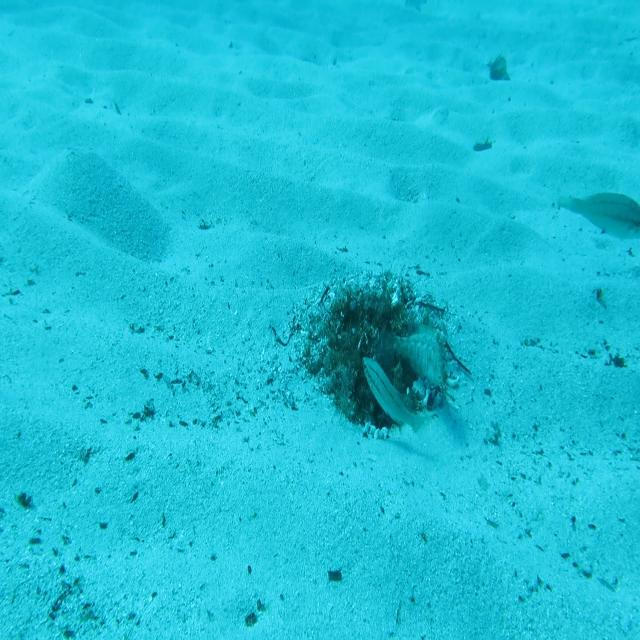DAN_CIRC: (378, 321, 446, 386)
core_nest: (352, 310, 400, 342)
female: (361, 355, 433, 446), (557, 189, 640, 242)
nest: (290, 261, 460, 447)
other_fish: (403, 0, 432, 12)
vegetation: (488, 55, 510, 87), (472, 134, 492, 157), (326, 565, 344, 585)
